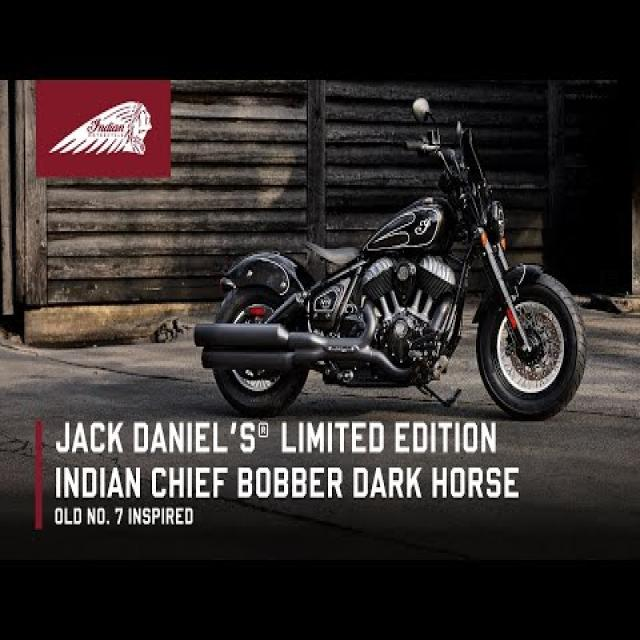motorcycle: (194, 98, 586, 419)
